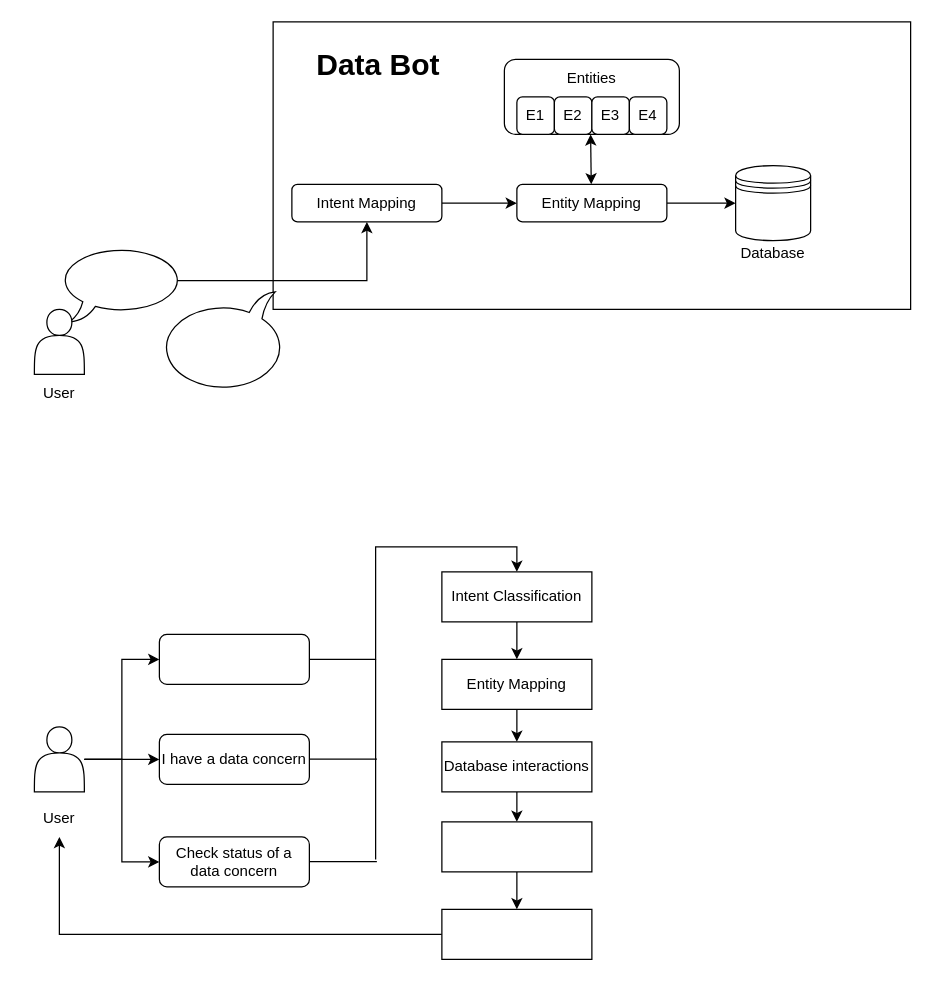
Image size: 933x981. Some labels were removed from this diagram. The shapes that lost their labels are listed below. From the top down, each one's centre as x and y in pixels, then its label:
At point 121,284: "I am receiving blank files".
At point 222,341: "For which Application?".
At point 233,658: "Show me all Data Concerns".
At point 516,846: "Data to natural language".
At point 516,933: "Result".
